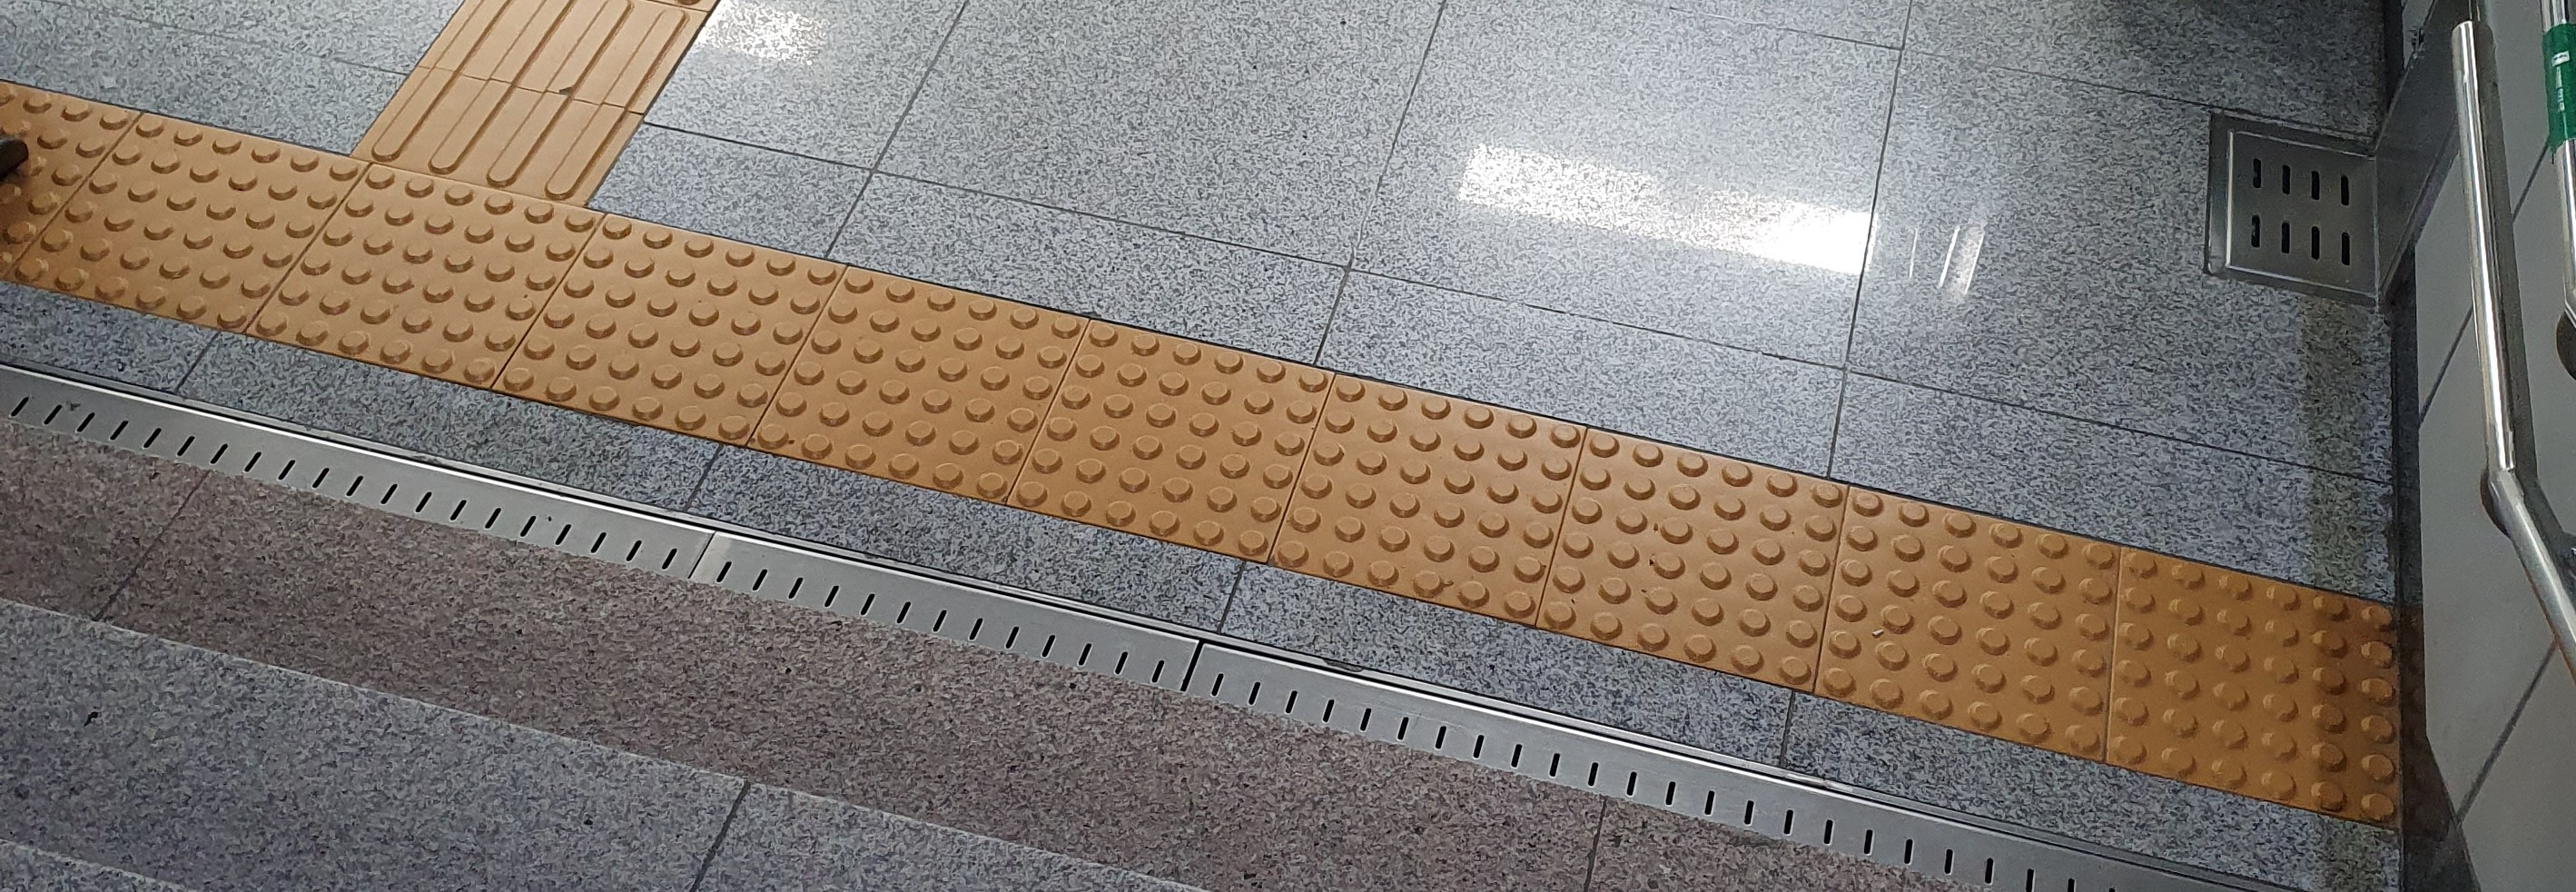guideBlock: (425, 36, 657, 169)
warningBlock: (1520, 409, 1937, 728), (2104, 559, 2471, 844), (1843, 490, 2152, 774), (306, 186, 639, 434), (1055, 317, 1319, 591), (779, 246, 1058, 501), (1296, 371, 1584, 606), (46, 122, 347, 296), (527, 238, 835, 404)
